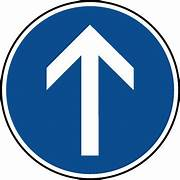forward: (3, 1, 180, 180)
